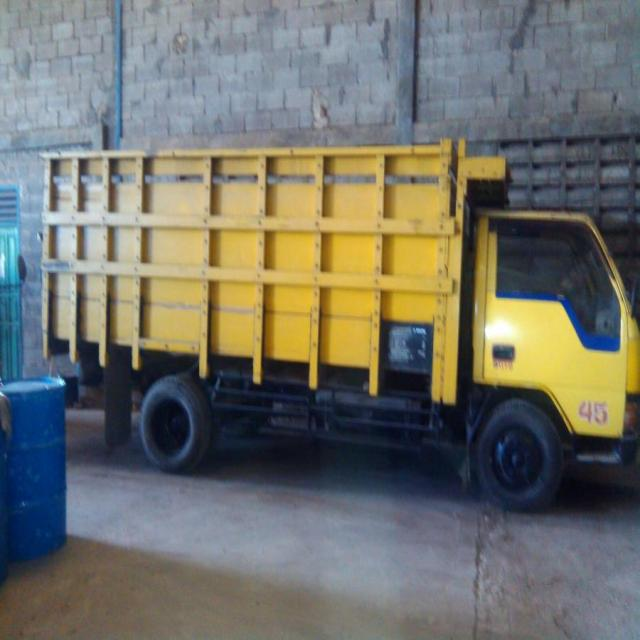truck: (36, 145, 640, 504)
